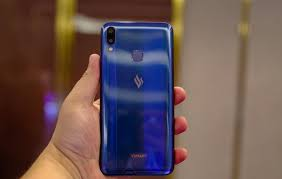vsmart: (98, 17, 178, 174)
